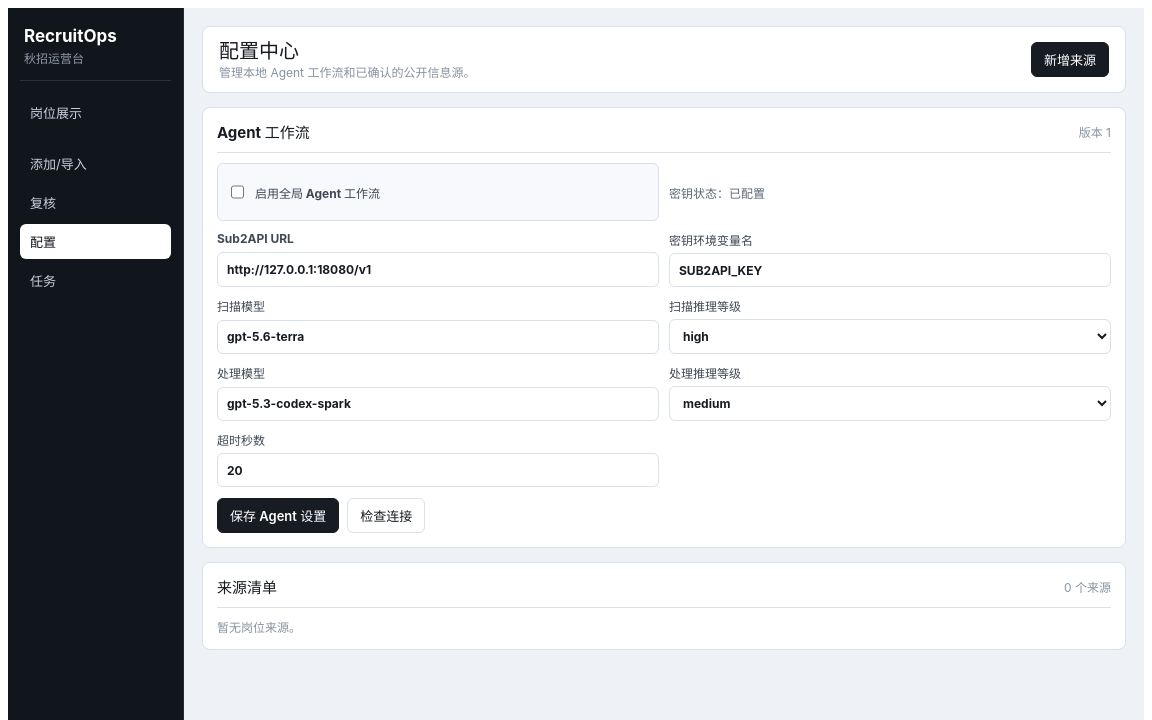
API-driven micro frontend › reads, saves, and checks global Agent settings without storing a token
Expected: the heading "配置中心" is shown, [219,39,299,63]
Expected: the field labelled "密钥环境变量名" holds "SUB2API_KEY", [669,253,1111,287]
Click the checkbox labelled "启用全局 Agent 工作流" at (238, 192), box [231,175,244,209]
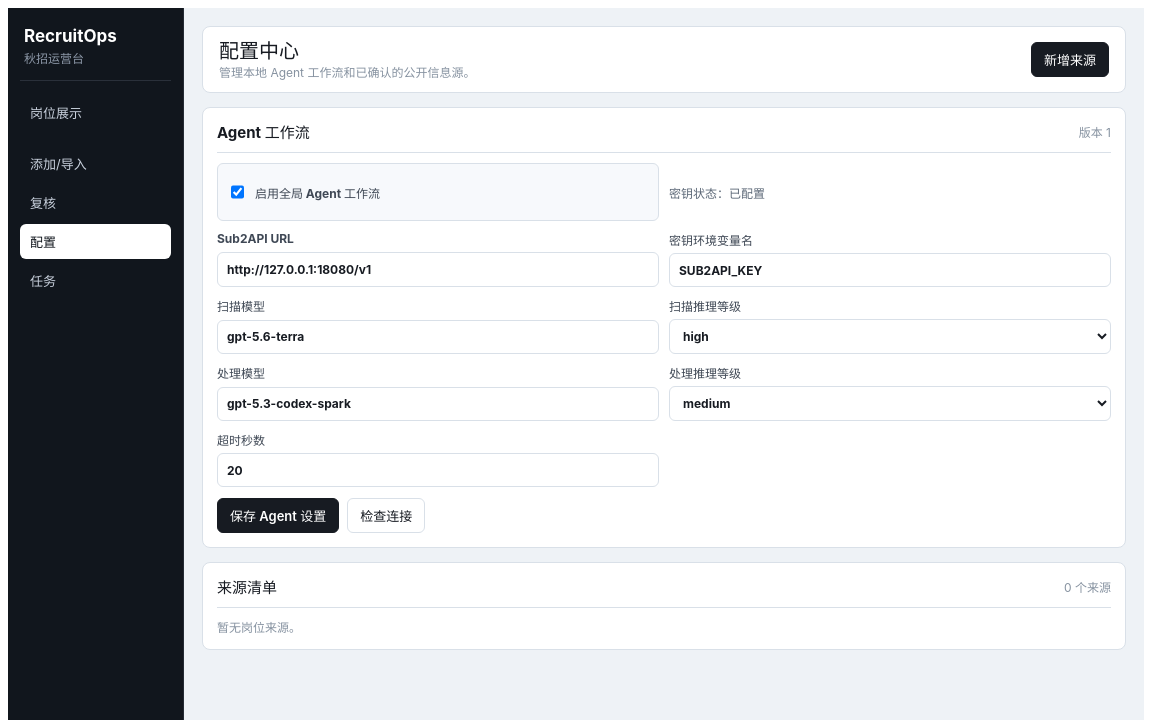
Replace the text in the field labelled "密钥环境变量名" with "LOCAL_SUB2API_KEY" at (890, 270), box [669,253,1111,287]
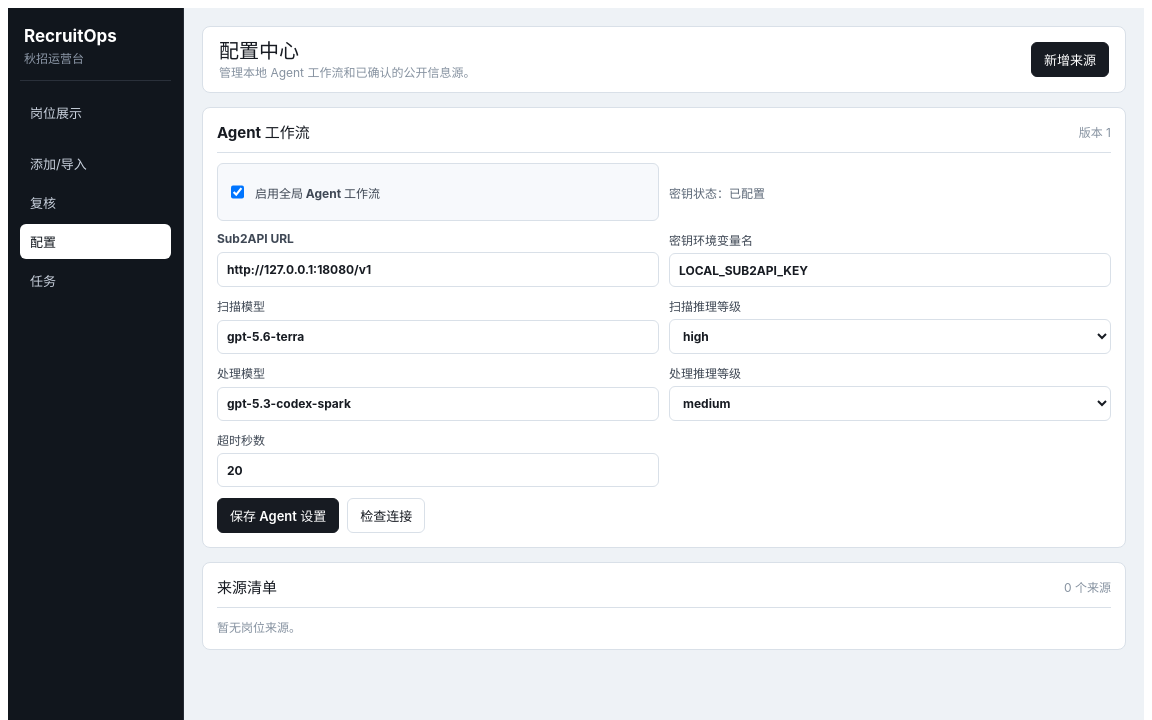
Click the button "保存 Agent 设置" at (278, 516), box [217,498,339,533]
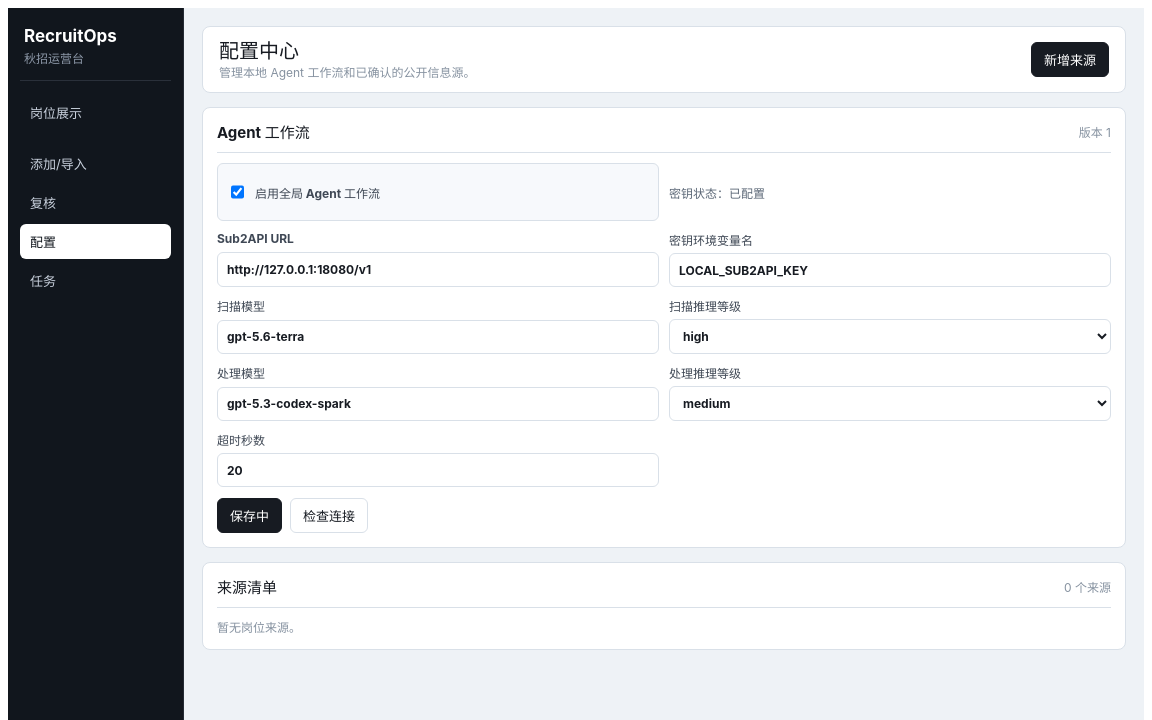
Click the button "检查连接" at (329, 516), box [290,498,368,533]
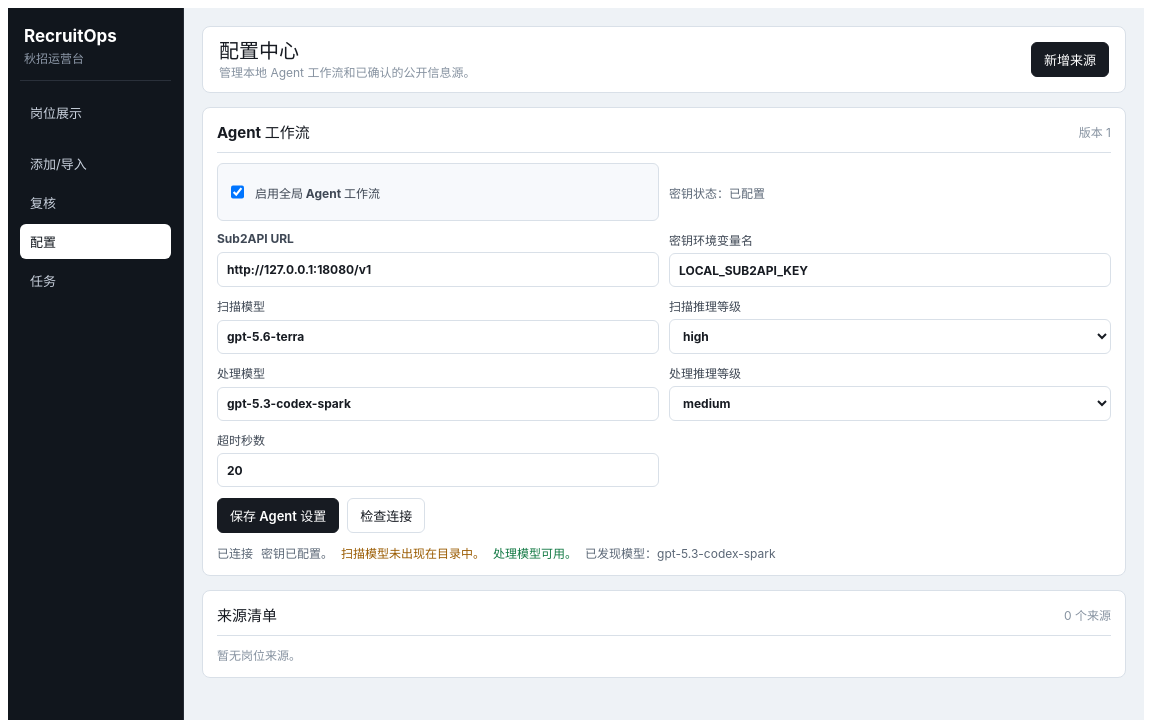
Result: the text "扫描模型未出现在目录中。" is shown at [341,544,485,561]
Result: the text "处理模型可用。" is shown at [493,544,577,561]
Result: the text "已发现模型：gpt-5.3-codex-spark" is shown at [585,544,776,561]
